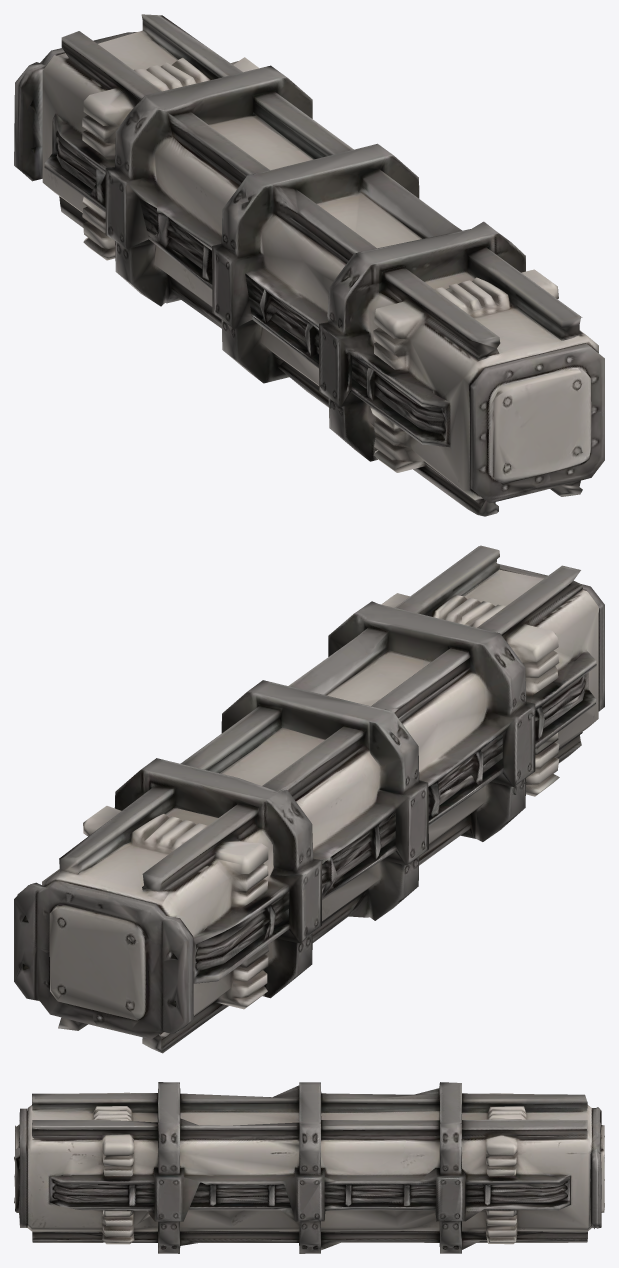
Rendered from railgunSegment.glb.
3 renders of one model, top to bottom at view 1: azimuth 30°, elevation 25°; view 2: azimuth 150°, elevation 25°; view 3: azimuth 270°, elevation 25°, orthographic. The views are drawn at different scales.
Parts seen in each view (by area): view 1: tripo_node_3869ebd8-c7a4-443f-abf7-0ba781f5c6fd; view 2: tripo_node_3869ebd8-c7a4-443f-abf7-0ba781f5c6fd; view 3: tripo_node_3869ebd8-c7a4-443f-abf7-0ba781f5c6fd.
Part boxes in pixels (x1,y1,x2,y2): tripo_node_3869ebd8-c7a4-443f-abf7-0ba781f5c6fd: (14,14,604,516); tripo_node_3869ebd8-c7a4-443f-abf7-0ba781f5c6fd: (14,545,604,1053); tripo_node_3869ebd8-c7a4-443f-abf7-0ba781f5c6fd: (14,1082,604,1253).
Size of the model in its own units: 5 by 4.77 by 19.46.
Materials: 1 (1 with a texture image).
